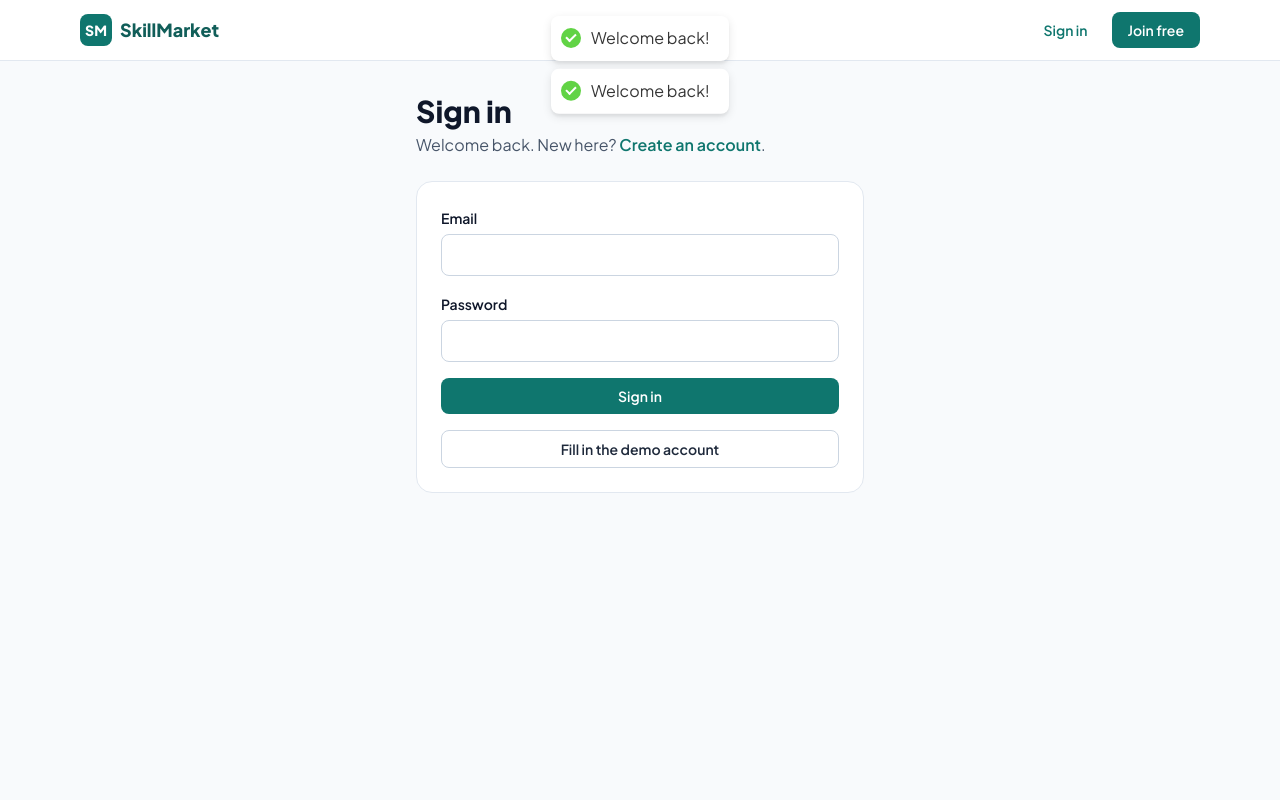
Scenario: authentication › shows an error for a wrong password and stays on the page
Type "ana@demo.edu" into the field labelled "Email" at (640, 255), box 441,234 -> 839,276
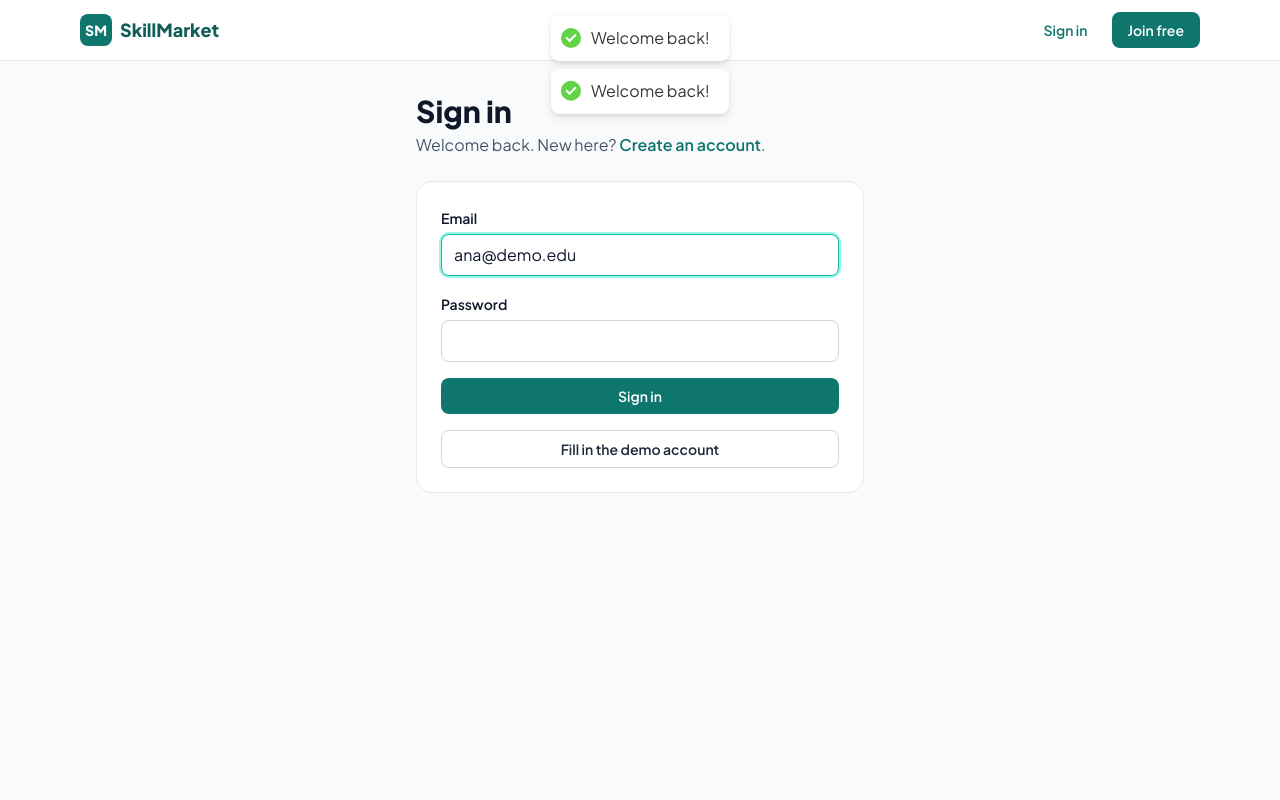
Type "not-the-password" into the password field labelled "Password" at (640, 341), box 441,320 -> 839,362
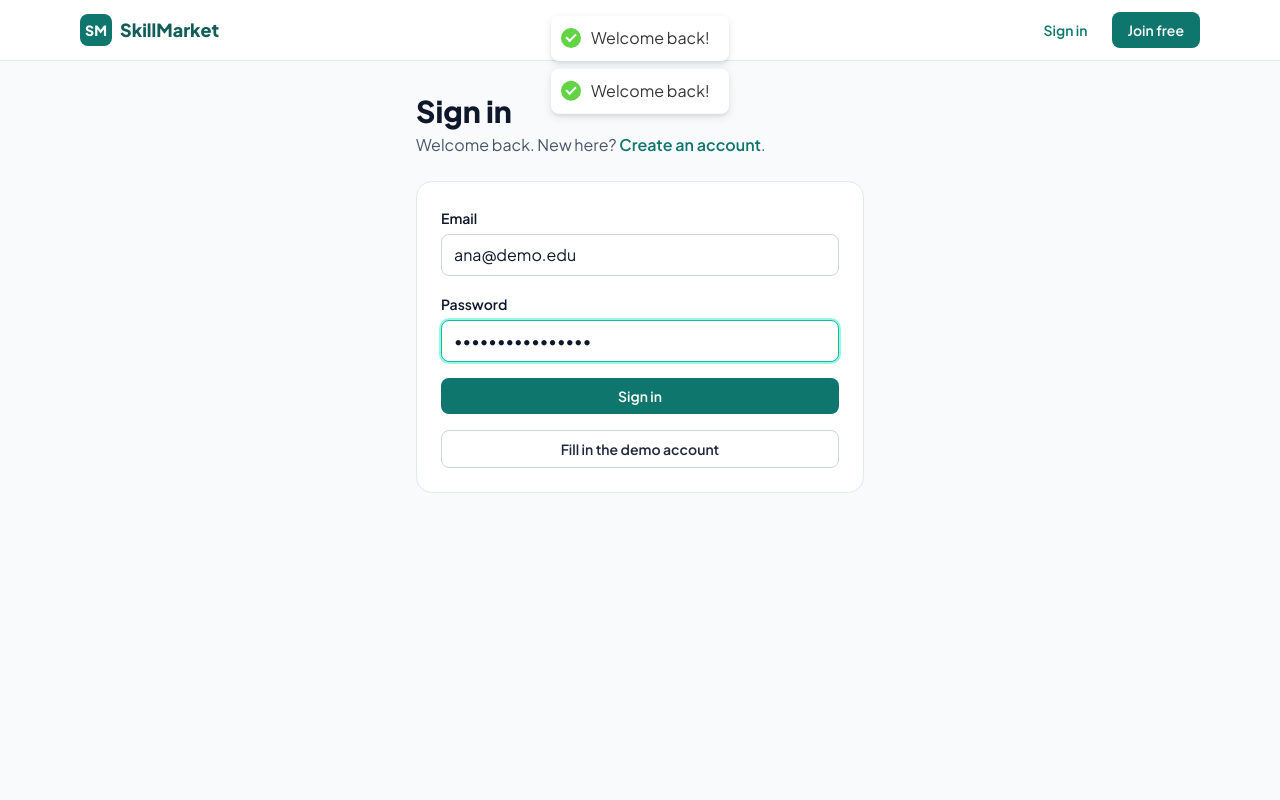
Click the button "Sign in" at (640, 396), box 441,378 -> 839,414
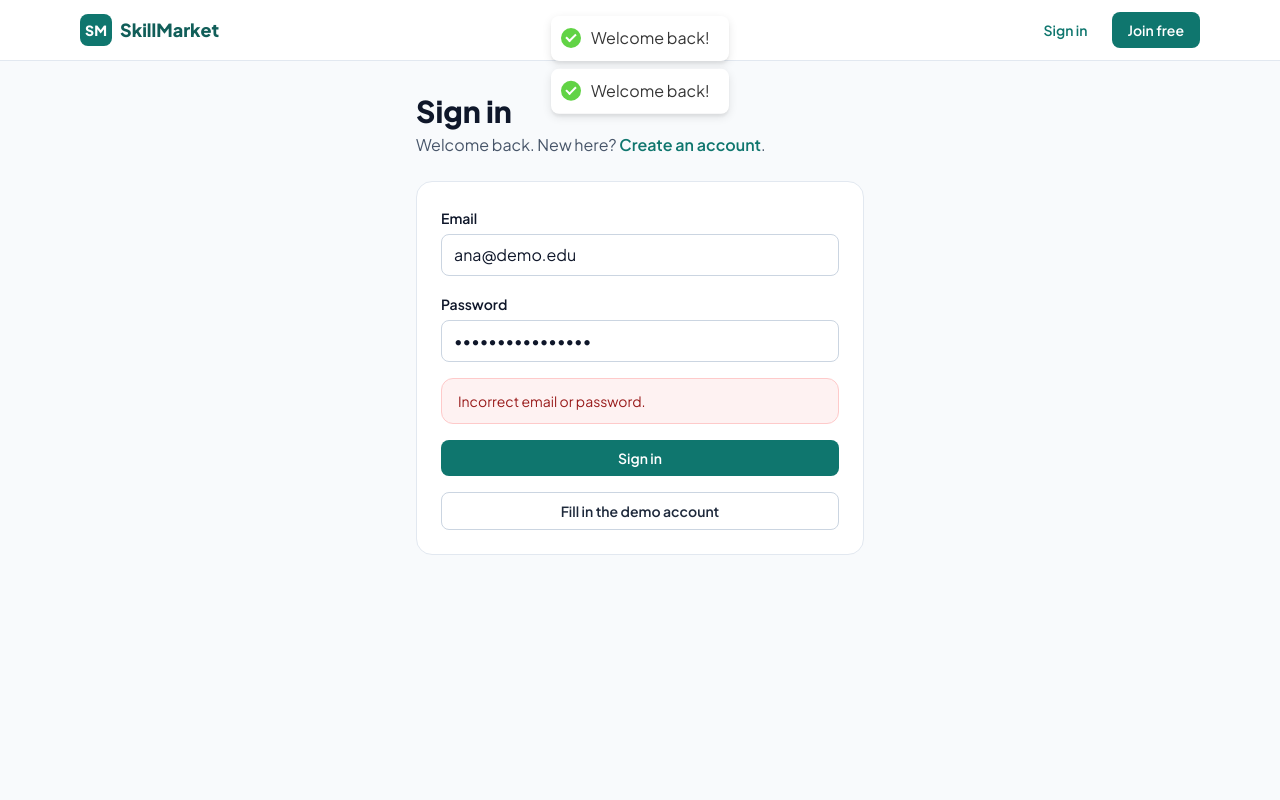
expect the heading "Sign in" is shown: met, box 416,92 -> 512,130
expect the message "Incorrect email or password." is shown: met, box 441,378 -> 839,424
